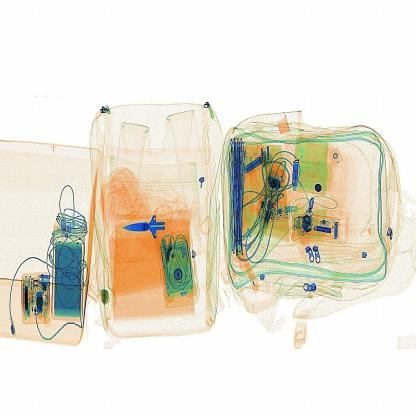gun: (124, 194, 182, 252)
